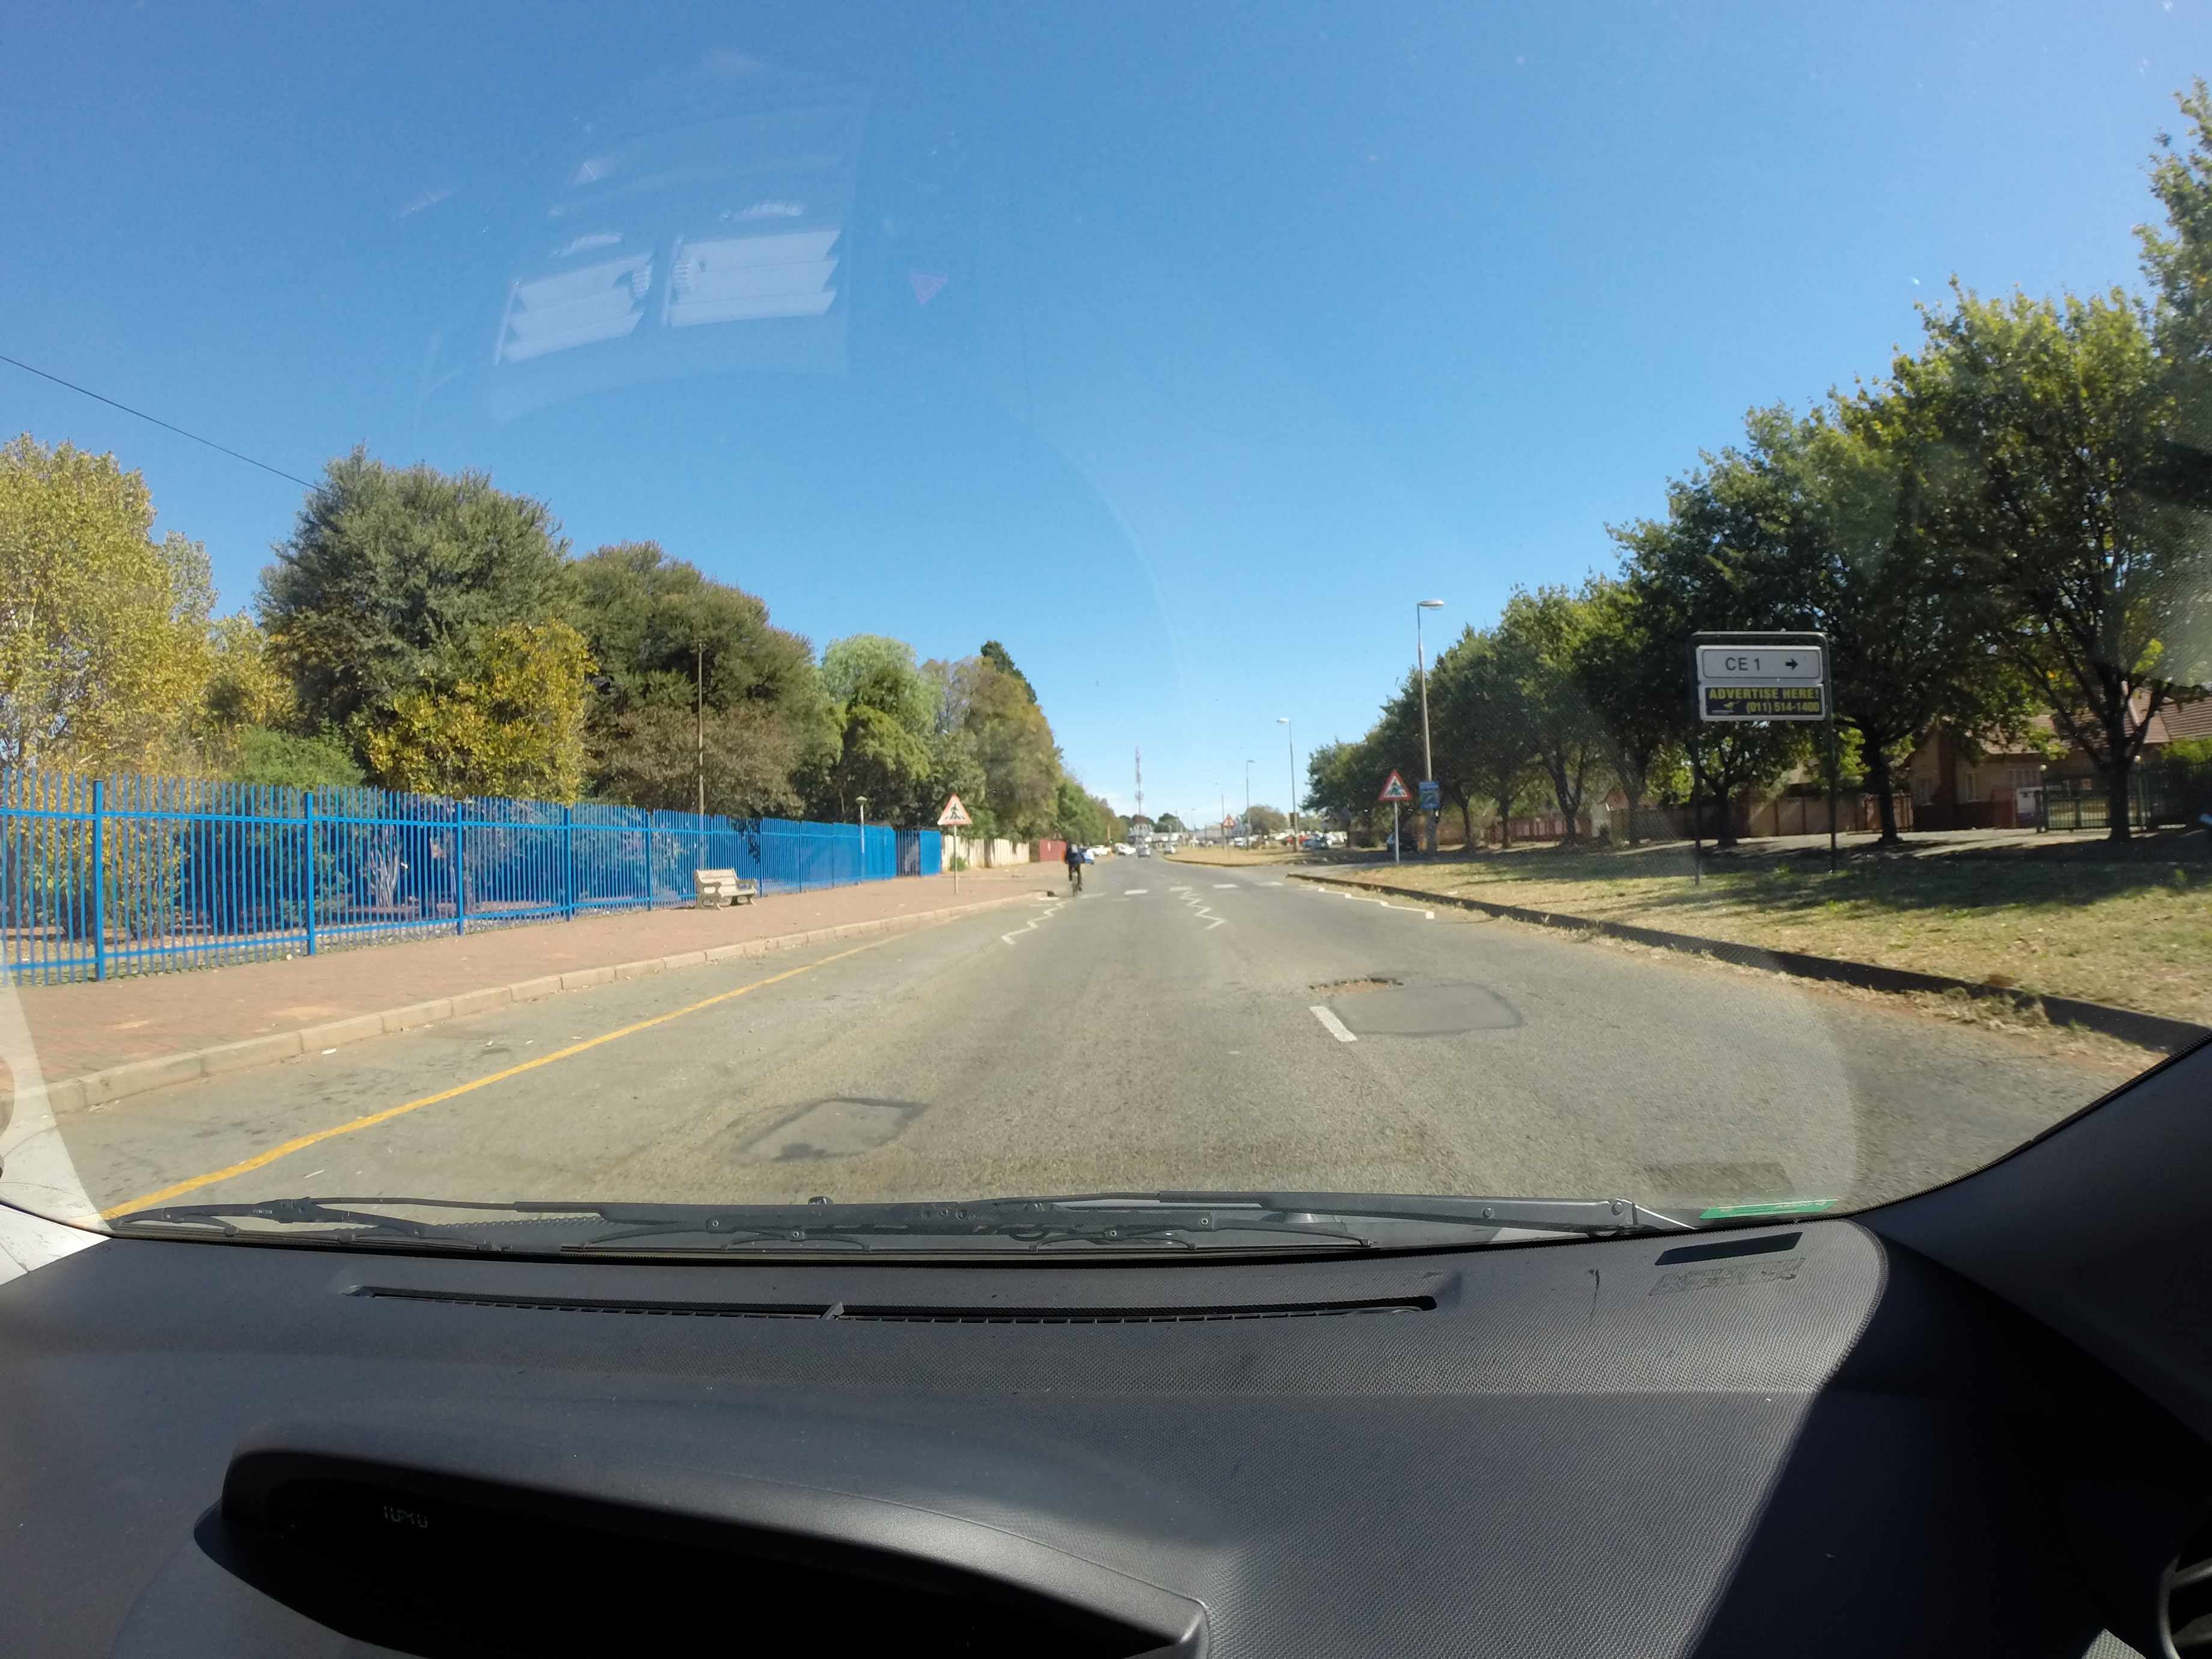pothole: (1214, 903, 1407, 1053)
